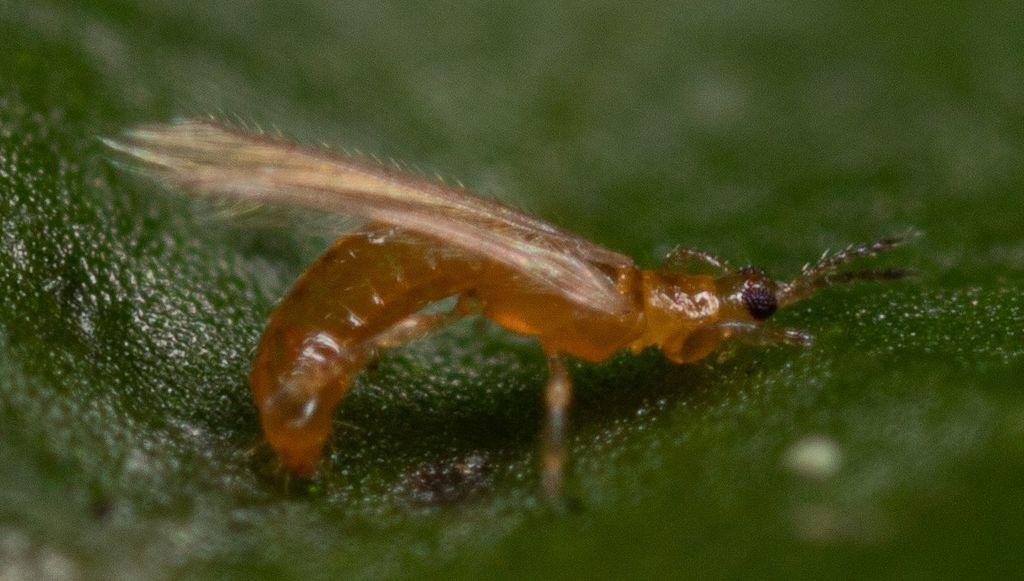tiny_pests: (69, 71, 964, 568)
